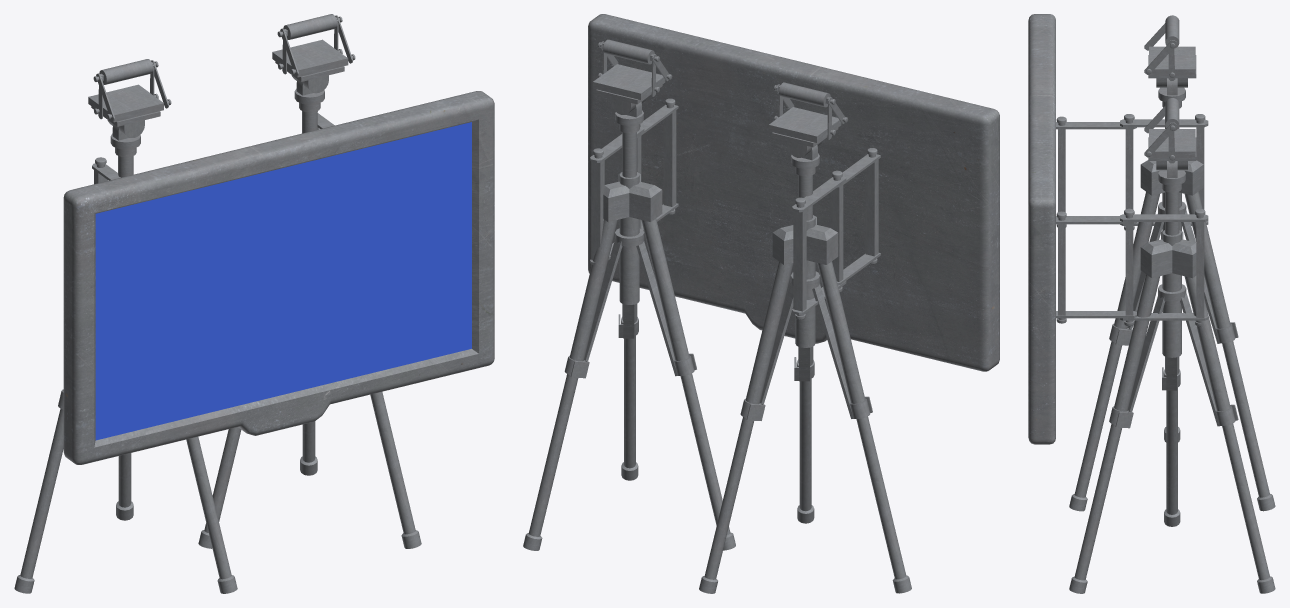
Rendered from screen-stand.fbx.
The picture shows the model from 3 angles, left to right: view 1: azimuth 30°, elevation 25°; view 2: azimuth 150°, elevation 25°; view 3: azimuth 270°, elevation 25°; orthographic projection. The views are drawn at different scales.
Parts seen in each view (by area): view 1: Mesh; view 2: Mesh; view 3: Mesh.
Boxes of the visible parts, <box> form: Mesh: <box>14,14,494,593</box>; Mesh: <box>523,14,999,593</box>; Mesh: <box>1028,14,1275,593</box>.
Size of the model in its own units: 194 by 222 by 108.
